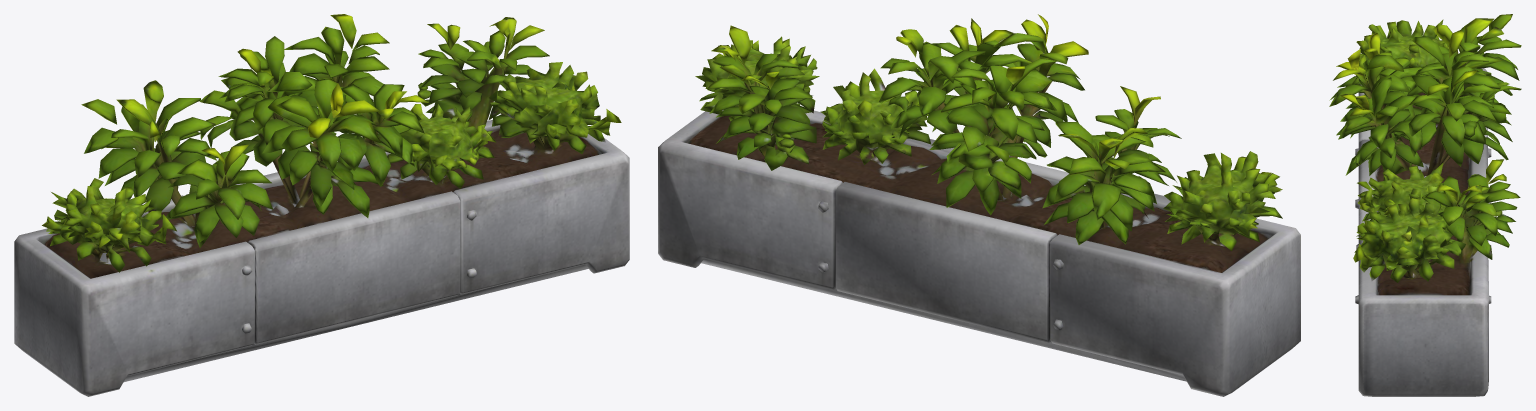
The model's file is planter.glb.
3 renders of one model, left to right at view 1: azimuth 30°, elevation 25°; view 2: azimuth 150°, elevation 25°; view 3: azimuth 270°, elevation 25°, orthographic. The views are drawn at different scales.
Visible parts, largest first — view 1: tripo_node_c14f4615-b922-4802-aabb-0a8b944e2134; view 2: tripo_node_c14f4615-b922-4802-aabb-0a8b944e2134; view 3: tripo_node_c14f4615-b922-4802-aabb-0a8b944e2134.
Boxes of the visible parts, x1,y1,x2,y2 form: tripo_node_c14f4615-b922-4802-aabb-0a8b944e2134: (14,14,629,396); tripo_node_c14f4615-b922-4802-aabb-0a8b944e2134: (658,14,1300,396); tripo_node_c14f4615-b922-4802-aabb-0a8b944e2134: (1329,14,1521,396).
Size of the model in its own units: 0.9762 by 0.4413 by 0.3382.
Materials: 1 (1 with a texture image).
